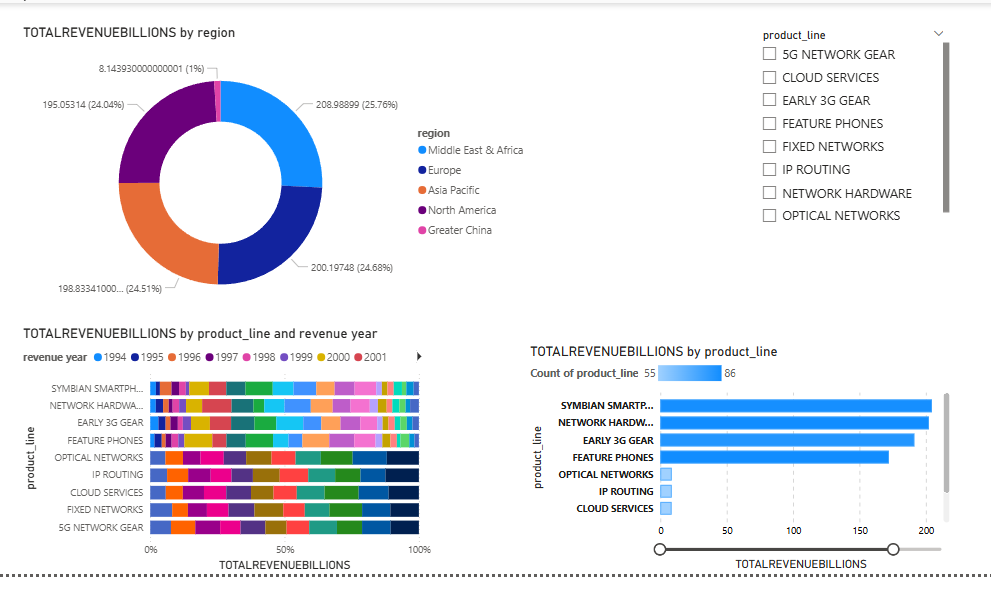

The dashboard page shown, as its layout file describes it:
{"tool":"powerbi","page":{"name":"Page 2","canvas":[1280,720],"ordinal":1},"visuals":[{"type":"donutChart","fields":{"Category":["gold vm_dashboard_financial_summary.region"],"Y":["gold vm_dashboard_financial_summary.TOTALREVENUEBILLIONS"]},"box":[49.1,26.5,650.1,379.8],"z":0},{"type":"slicer","fields":{"Values":["gold vm_dashboard_financial_summary.product_line"]},"box":[973.2,26.5,253.2,264.6],"z":1000},{"type":"hundredPercentStackedBarChart","fields":{"Category":["gold vm_dashboard_financial_summary.product_line"],"Y":["gold vm_dashboard_financial_summary.TOTALREVENUEBILLIONS"],"Series":["gold vm_dashboard_financial_summary.revenue year"]},"box":[49.1,406.3,523.5,313.7],"z":2000},{"type":"clusteredBarChart","fields":{"Category":["gold vm_dashboard_financial_summary.product_line"],"Y":["gold vm_dashboard_financial_summary.TOTALREVENUEBILLIONS"]},"box":[687.9,429,538.6,291],"z":3000}]}

Visuals, with their boxes on the page's 1280x720 design canvas (x1, y1, x2, y2). These are canvas units, not pixel positions in the 991x590 screenshot, which may show the page scaled, cropped or inside an application window:
donutChart - gold vm_dashboard_financial_summary.region x gold vm_dashboard_financial_summary.TOTALREVENUEBILLIONS: select_region(49, 26, 699, 406)
slicer - gold vm_dashboard_financial_summary.product_line: select_region(973, 26, 1226, 291)
hundredPercentStackedBarChart - gold vm_dashboard_financial_summary.product_line x gold vm_dashboard_financial_summary.TOTALREVENUEBILLIONS: select_region(49, 406, 573, 720)
clusteredBarChart - gold vm_dashboard_financial_summary.product_line x gold vm_dashboard_financial_summary.TOTALREVENUEBILLIONS: select_region(688, 429, 1226, 720)
